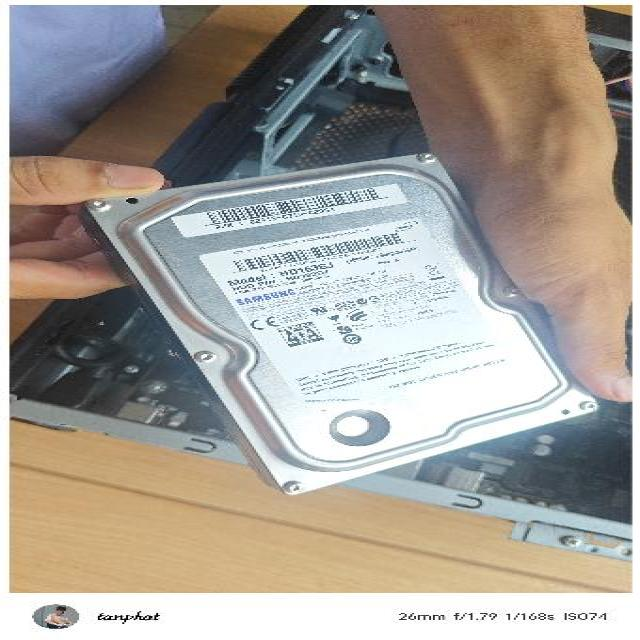DISK: (72, 150, 604, 498)
